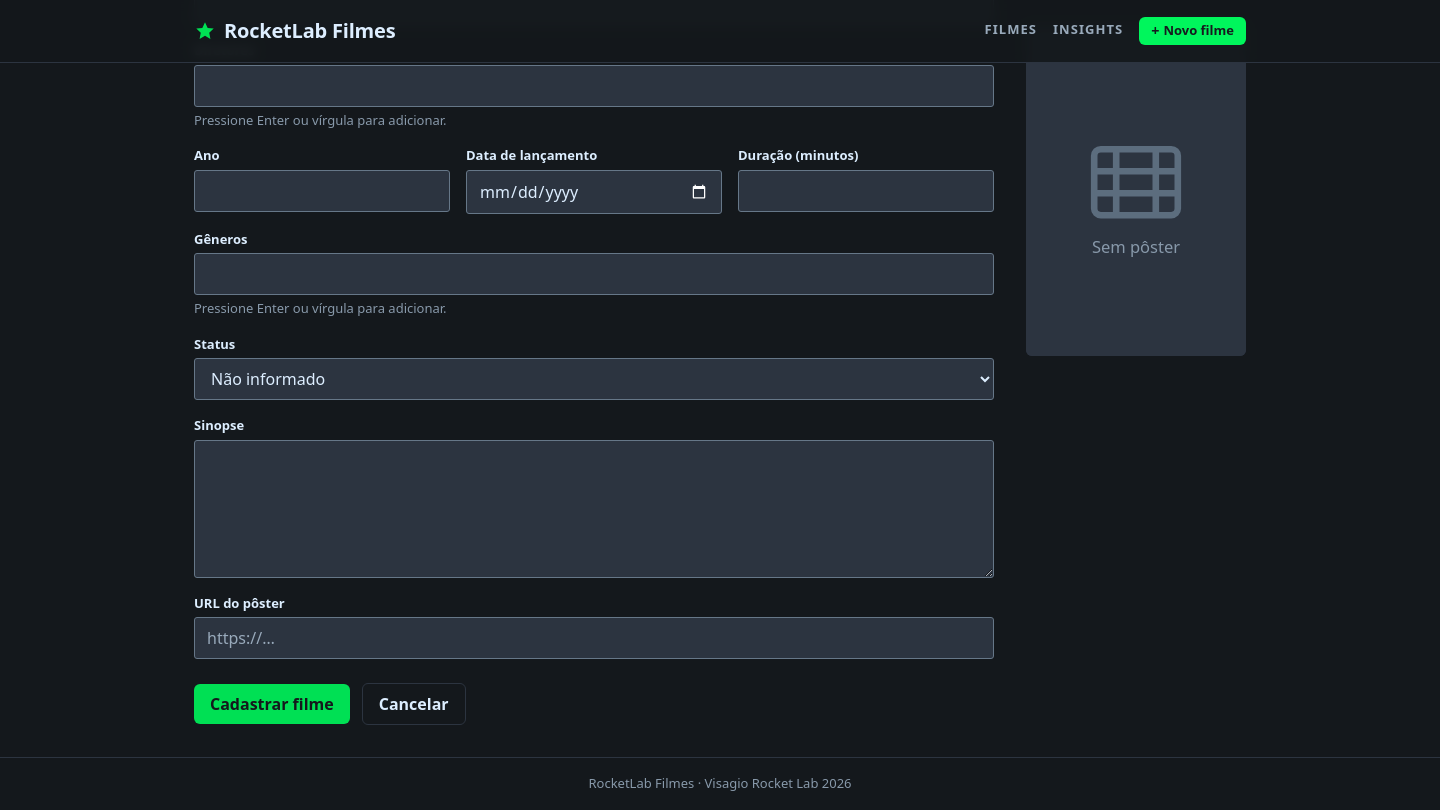
Test case: NewMoviePage — cadastro › limpa o erro do campo ao editá-lo
(page scrolled)
Click the button "Cadastrar filme" at (272, 704), box [194, 684, 350, 724]
(page scrolled)
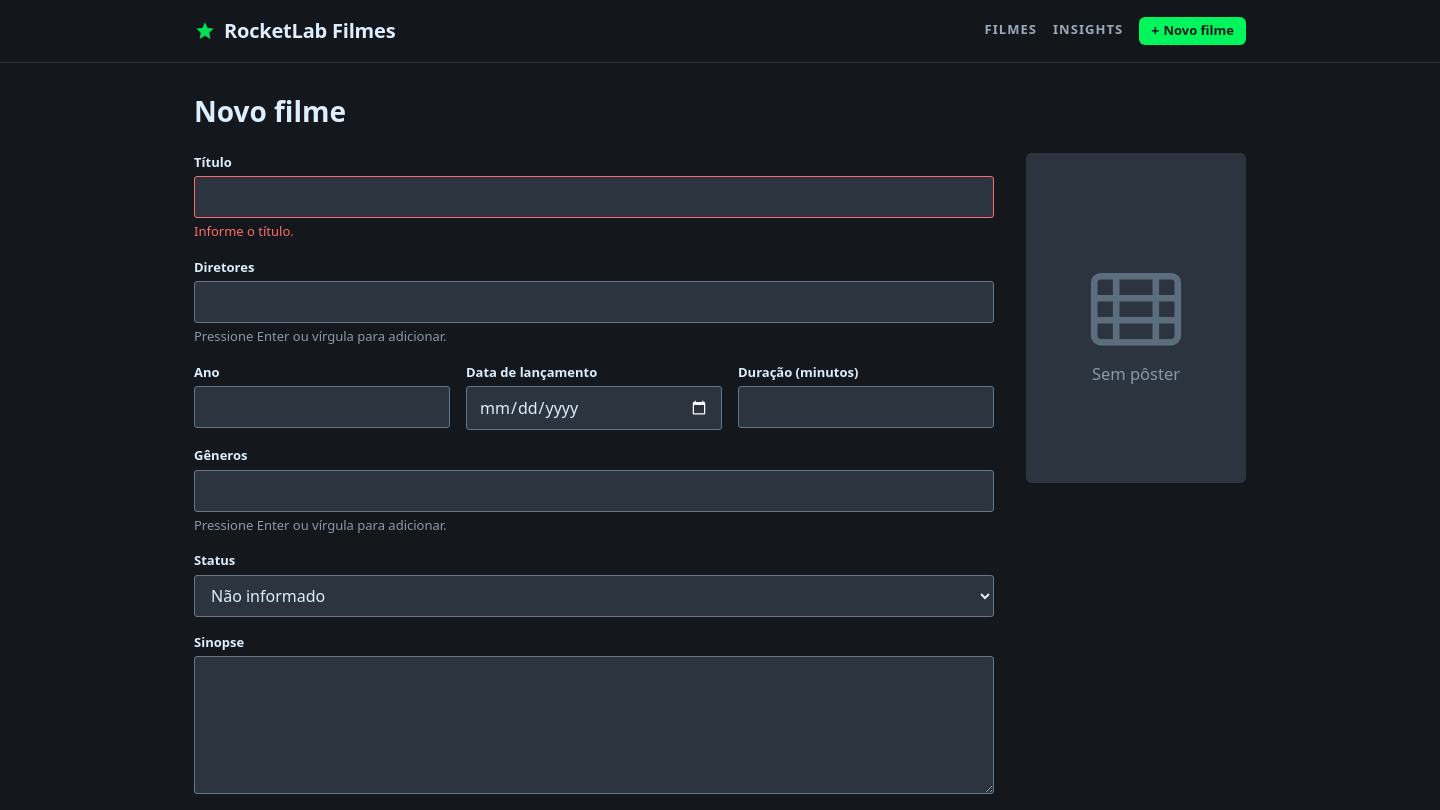
Type "D" into the field labelled "Título" at (594, 197), box [194, 176, 994, 218]
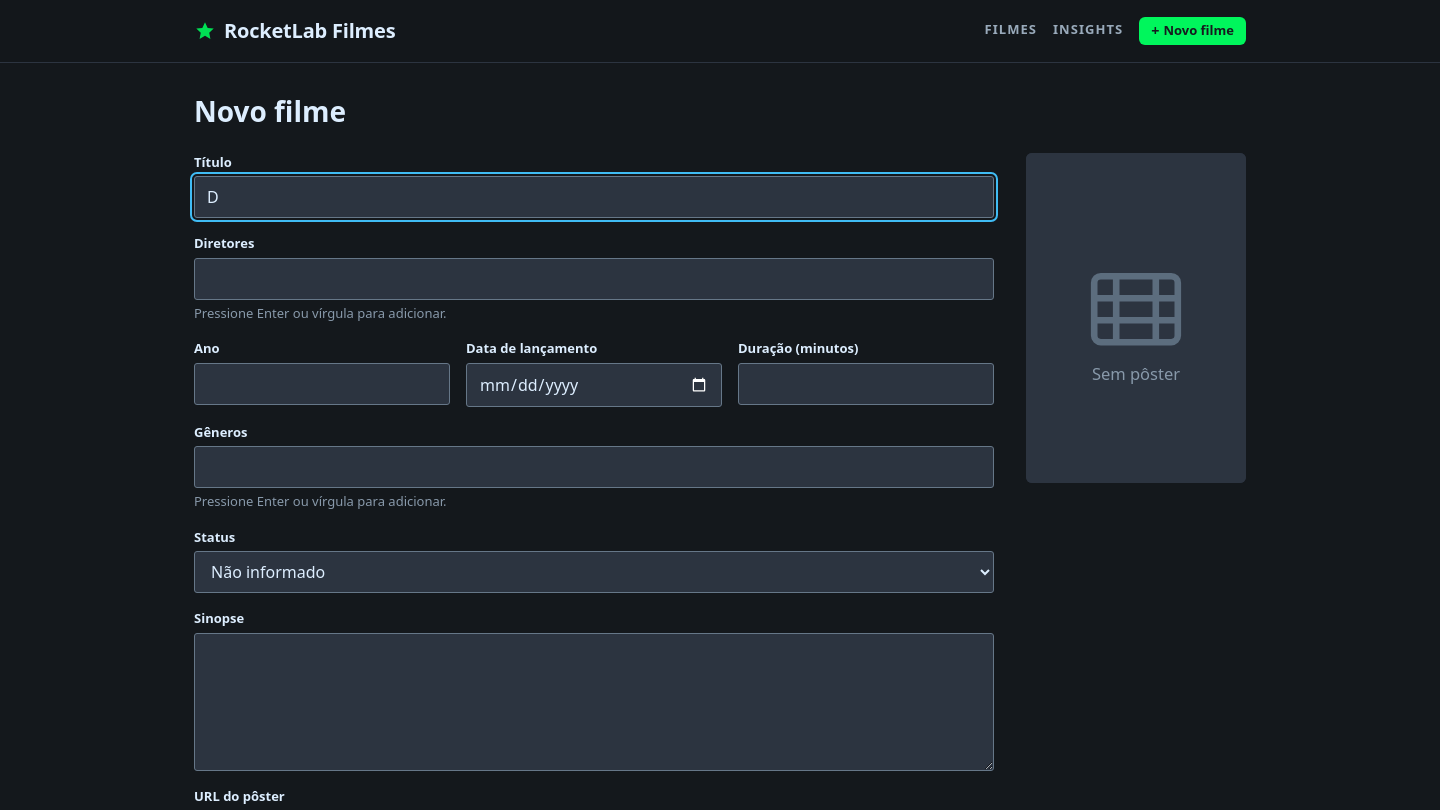
Result: the text "Informe o título." is gone
